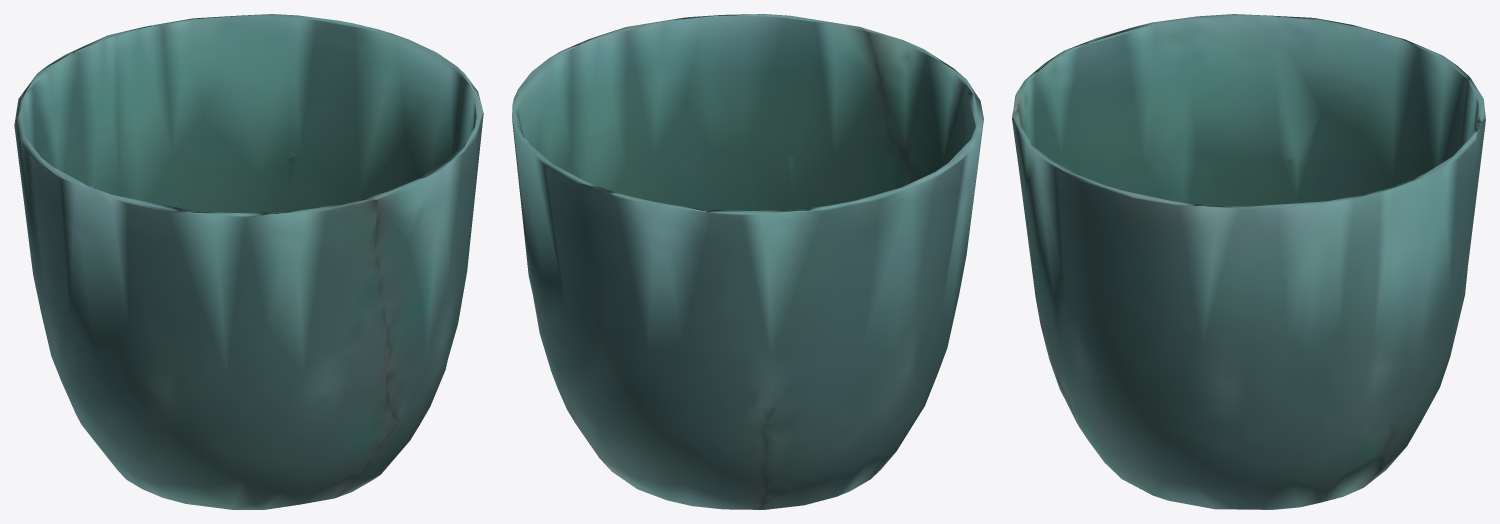
Rendered from Ecoforms_Plant_Container_SB9Turquoise-medium.glb.
The picture shows the model from 3 angles, left to right: view 1: azimuth 30°, elevation 25°; view 2: azimuth 150°, elevation 25°; view 3: azimuth 270°, elevation 25°; orthographic projection.
Visible parts, largest first — view 1: Ecoforms_Plant_Container_SB9Turquoise; view 2: Ecoforms_Plant_Container_SB9Turquoise; view 3: Ecoforms_Plant_Container_SB9Turquoise.
Boxes of the visible parts, box(x1,y1,x2,y2) form: Ecoforms_Plant_Container_SB9Turquoise: box(14, 14, 483, 509); Ecoforms_Plant_Container_SB9Turquoise: box(512, 14, 983, 509); Ecoforms_Plant_Container_SB9Turquoise: box(1012, 14, 1485, 509).
Bounding box in the file's own units: 0.2984 × 0.241 × 0.2988.
Materials: 1 (1 with a texture image).
